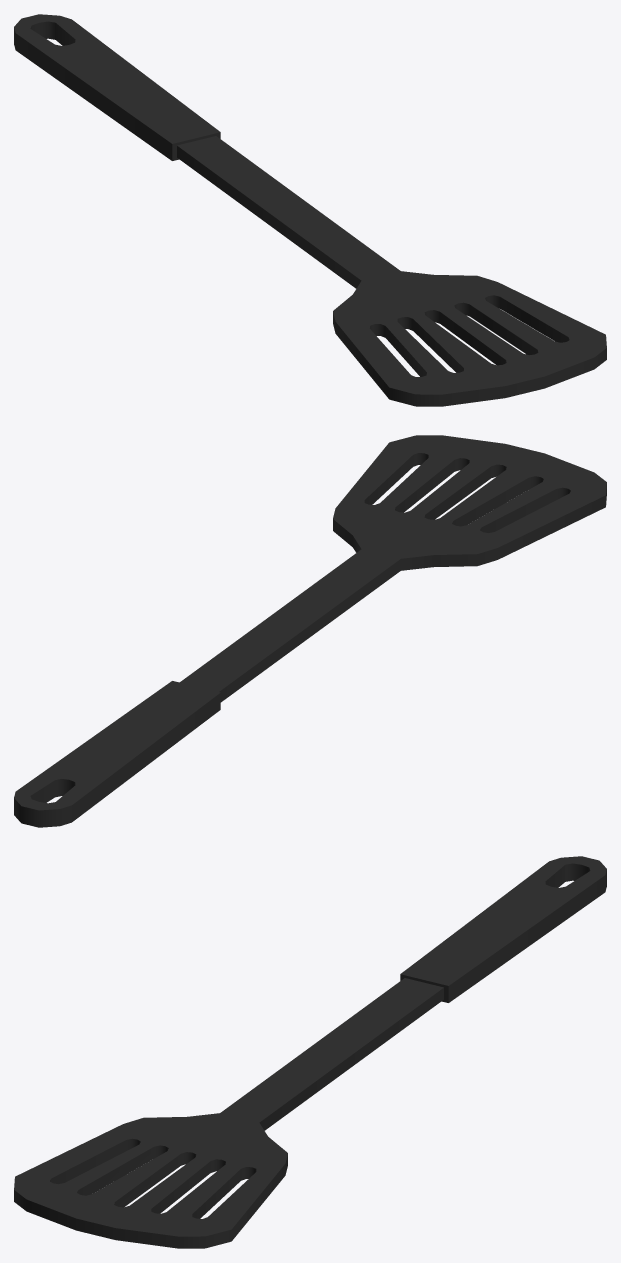
Rendered from Spatula_01.fbx.
3 views of the same model, one above another, from view 1: azimuth 30°, elevation 25°; view 2: azimuth 150°, elevation 25°; view 3: azimuth 330°, elevation 25° (orthographic).
Parts seen in each view (by area): view 1: Spatula_01; view 2: Spatula_01; view 3: Spatula_01.
Boxes of the visible parts, x1=… form: Spatula_01: x1=14, y1=14, x2=606, y2=406; Spatula_01: x1=14, y1=435, x2=606, y2=827; Spatula_01: x1=14, y1=856, x2=606, y2=1248.
Bounding box in the file's own units: 0.0806 × 0.00613 × 0.3188.
